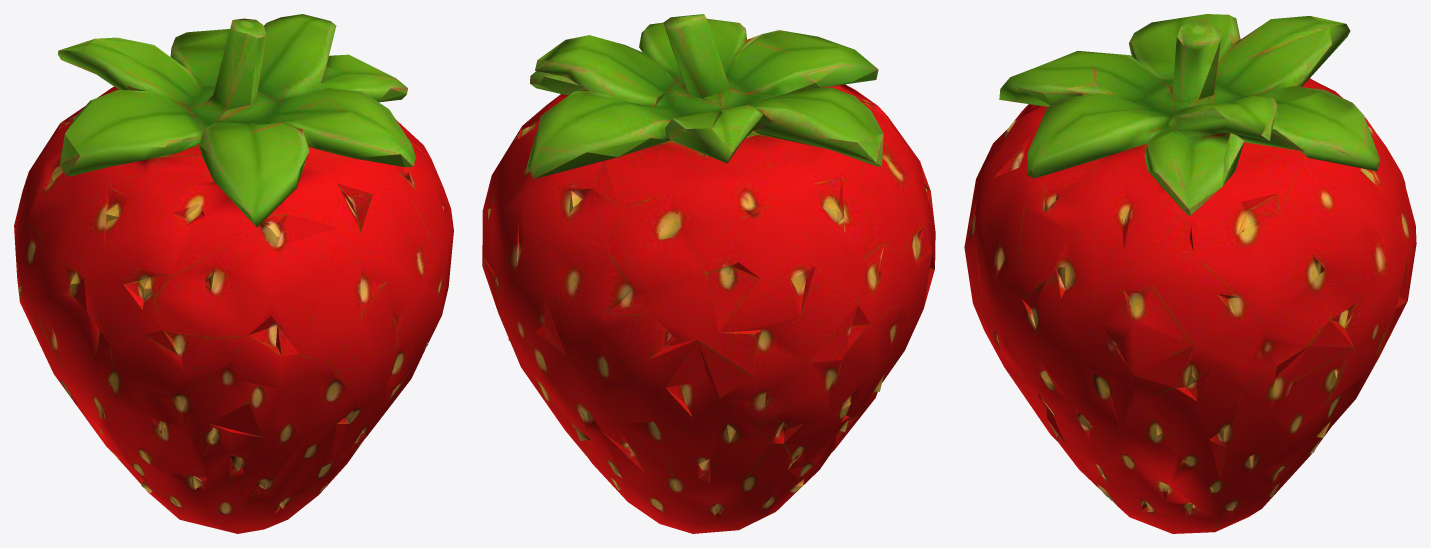
File: strawberry.gltf
3 views of the same model, side by side, from view 1: azimuth 30°, elevation 25°; view 2: azimuth 150°, elevation 25°; view 3: azimuth 270°, elevation 25° (orthographic). The views are drawn at different scales.
Visible parts, largest first — view 1: strawberry; view 2: strawberry; view 3: strawberry.
Part boxes in pixels (x1,y1,x2,y2): strawberry: (14, 14, 453, 533); strawberry: (482, 14, 935, 533); strawberry: (964, 14, 1416, 533).
Size of the model in its own units: 0.6464 by 0.8 by 0.6465.
1 material, 1 textured.
